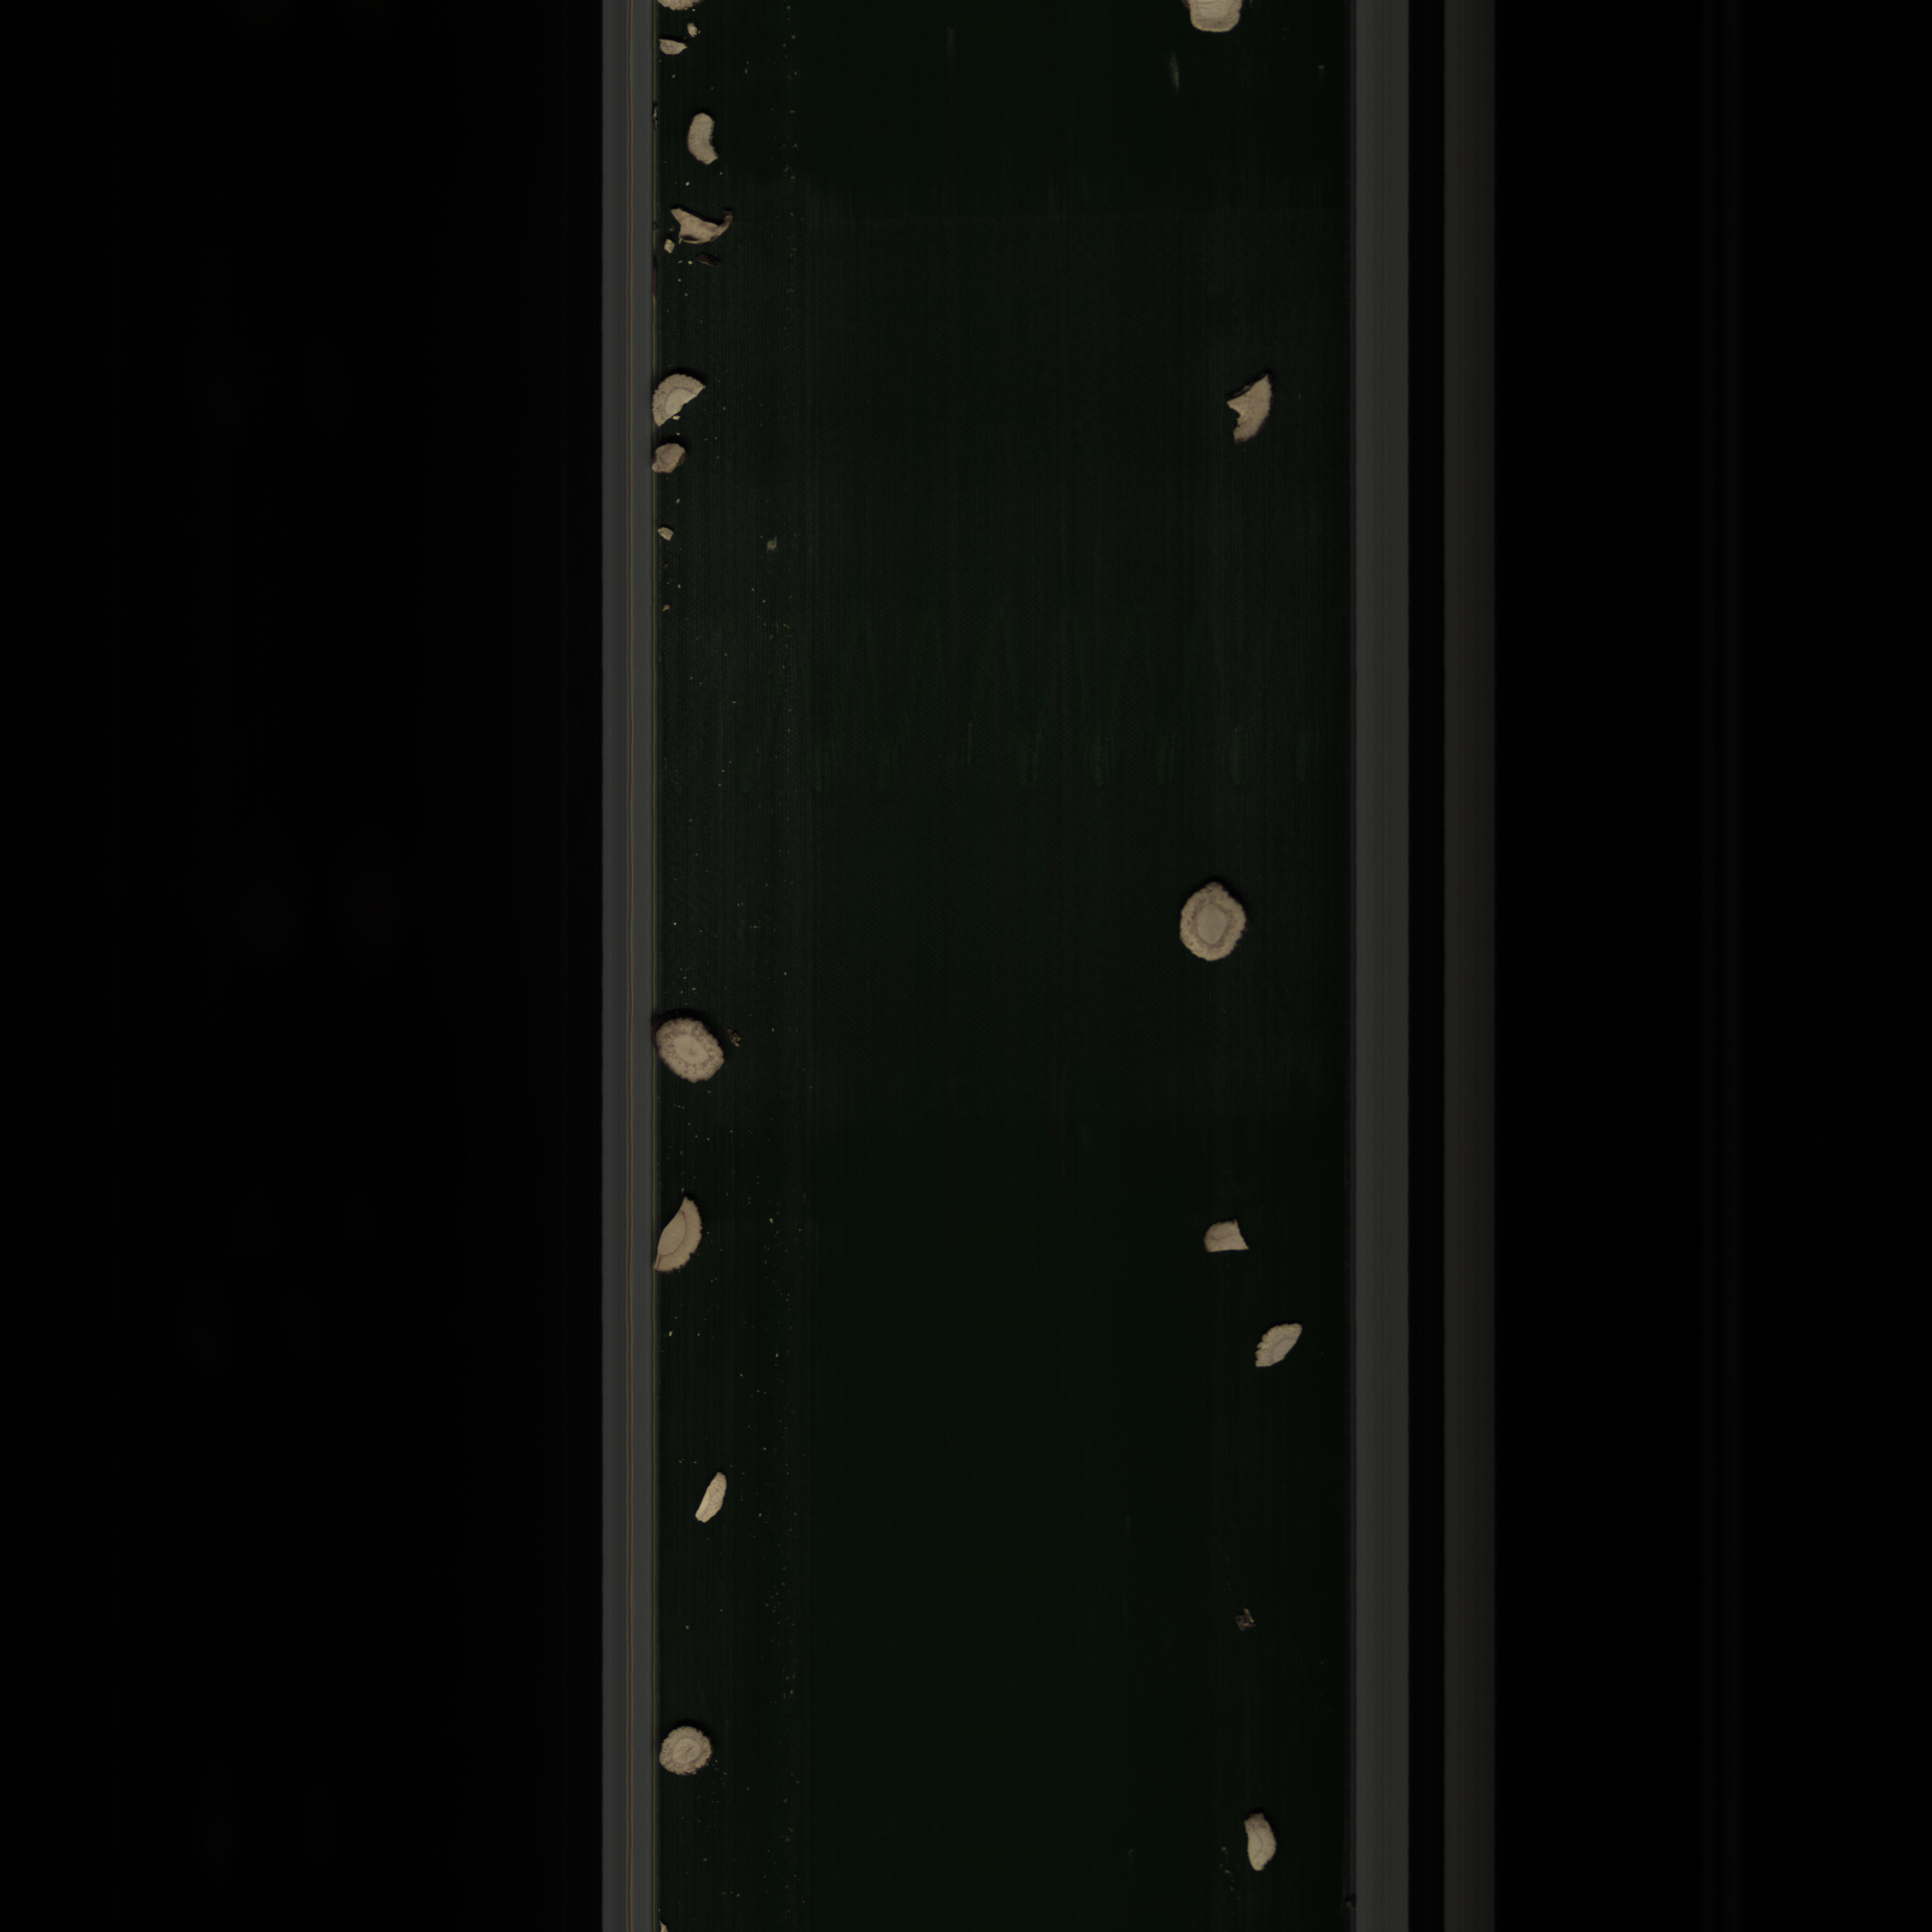debris: (1221, 364, 1284, 453), (655, 1198, 718, 1283), (683, 1470, 747, 1532), (667, 200, 738, 255), (651, 366, 709, 428), (1238, 1806, 1284, 1882), (1253, 1315, 1302, 1382), (679, 104, 725, 172), (1196, 1210, 1254, 1256), (656, 442, 697, 474)
